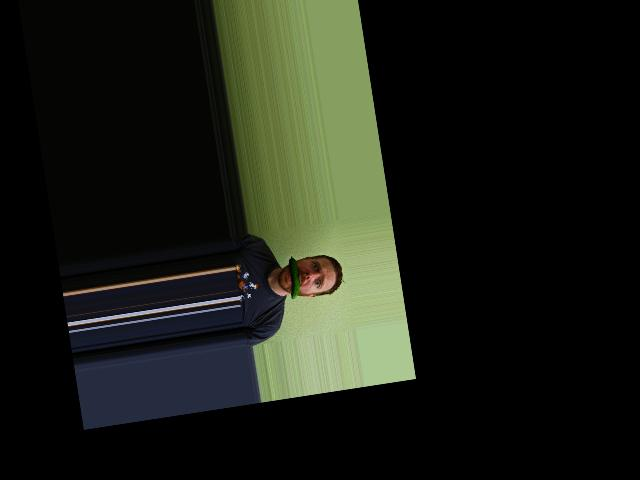cucumber: (284, 255, 302, 300)
